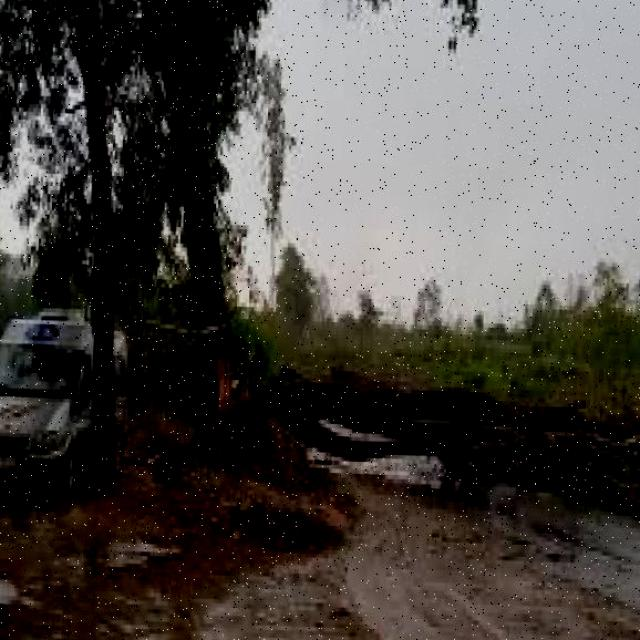fallen_object: (215, 278, 640, 545)
